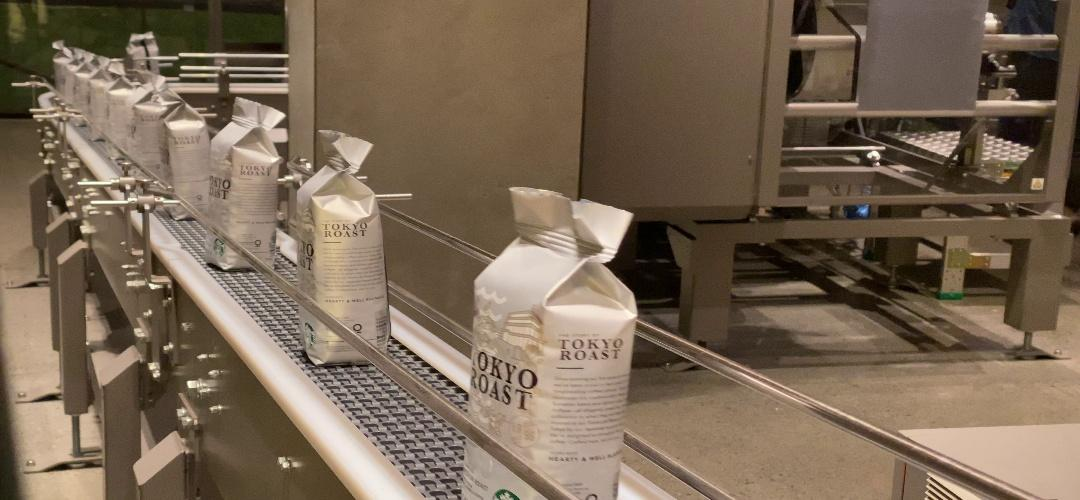conveyor: (473, 267, 632, 436), (292, 193, 387, 303), (213, 138, 279, 220), (158, 122, 208, 188)
